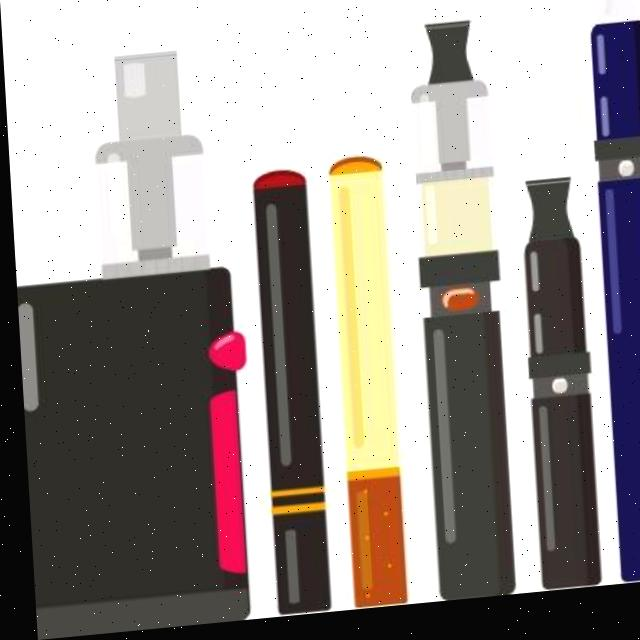cigarette: (325, 160, 402, 616)
vape: (4, 49, 255, 640), (403, 26, 513, 609), (247, 167, 328, 622), (514, 185, 598, 601), (583, 0, 640, 596)
